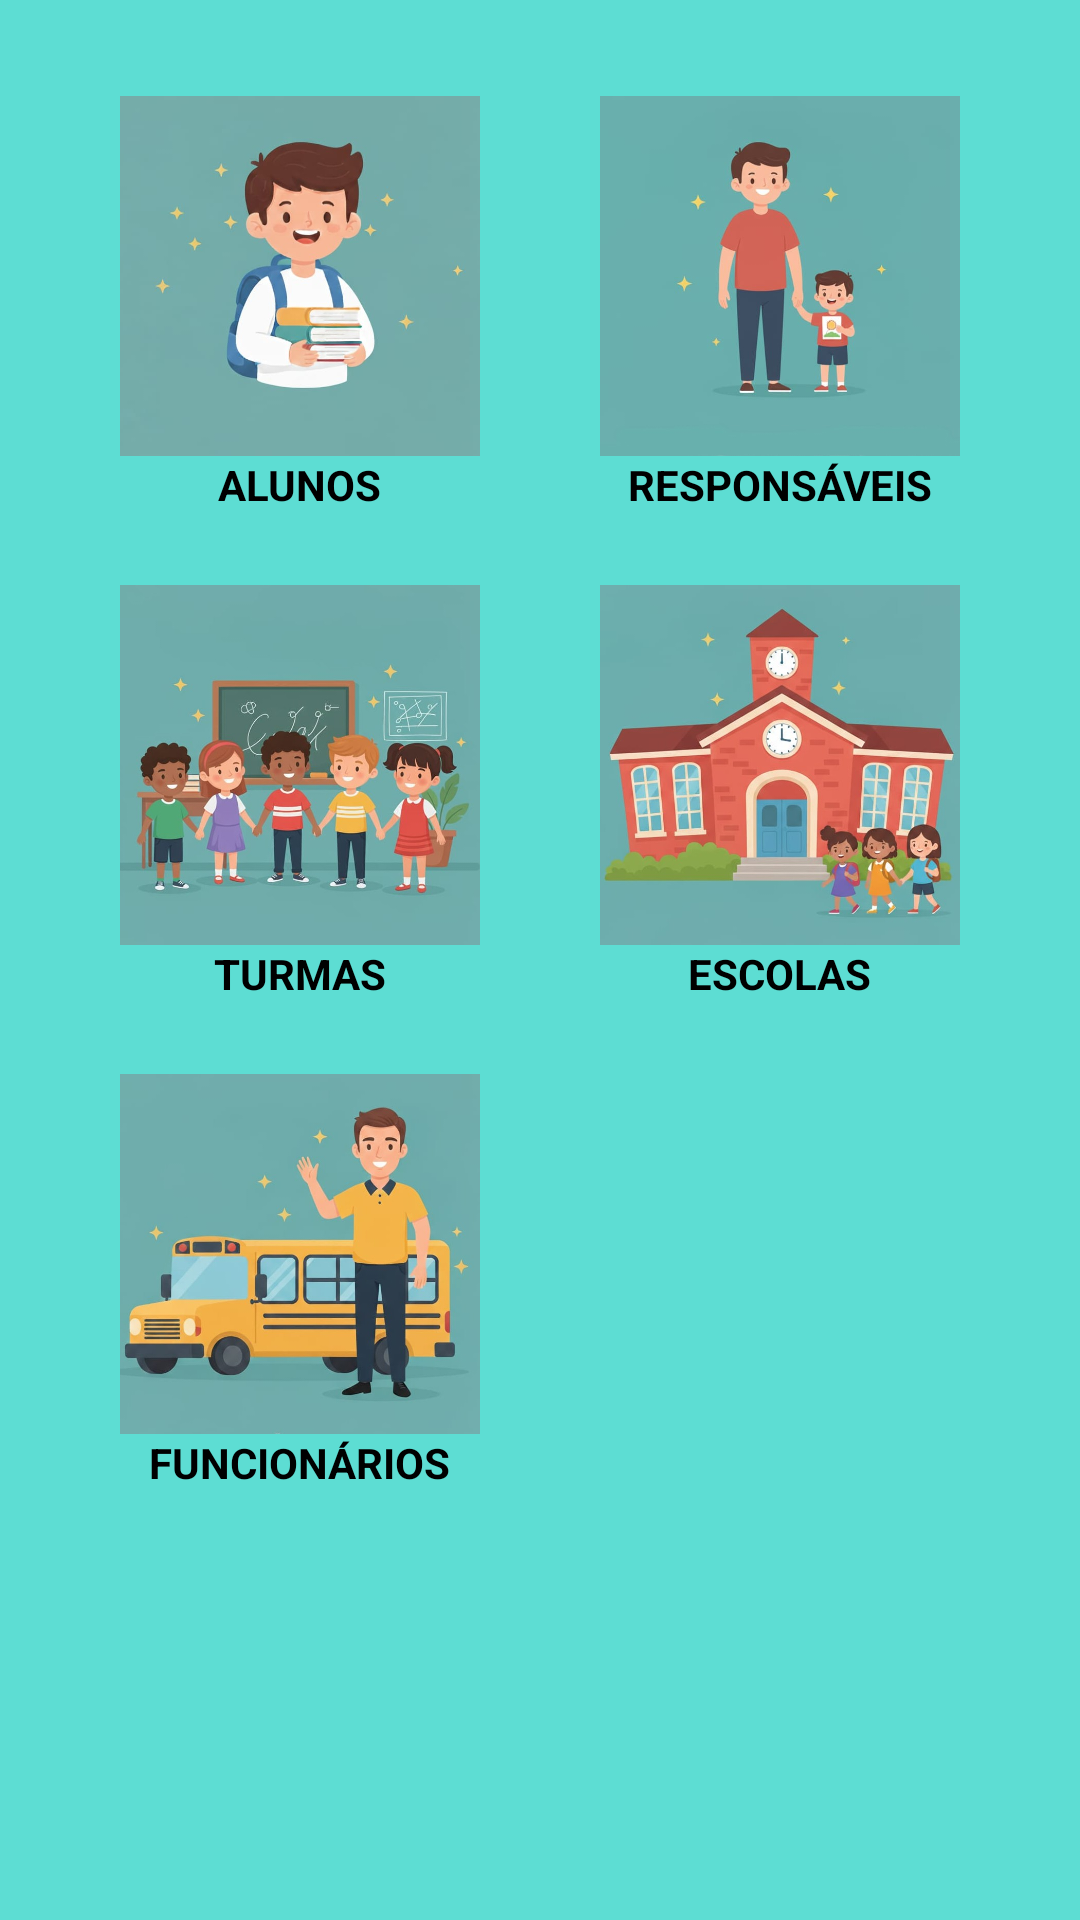

Icon bounding boxes for this 1080×1920 phone screenshot, format rect(x1, y1, x2, y2):
Condutores: rect(120, 1074, 480, 1434)
